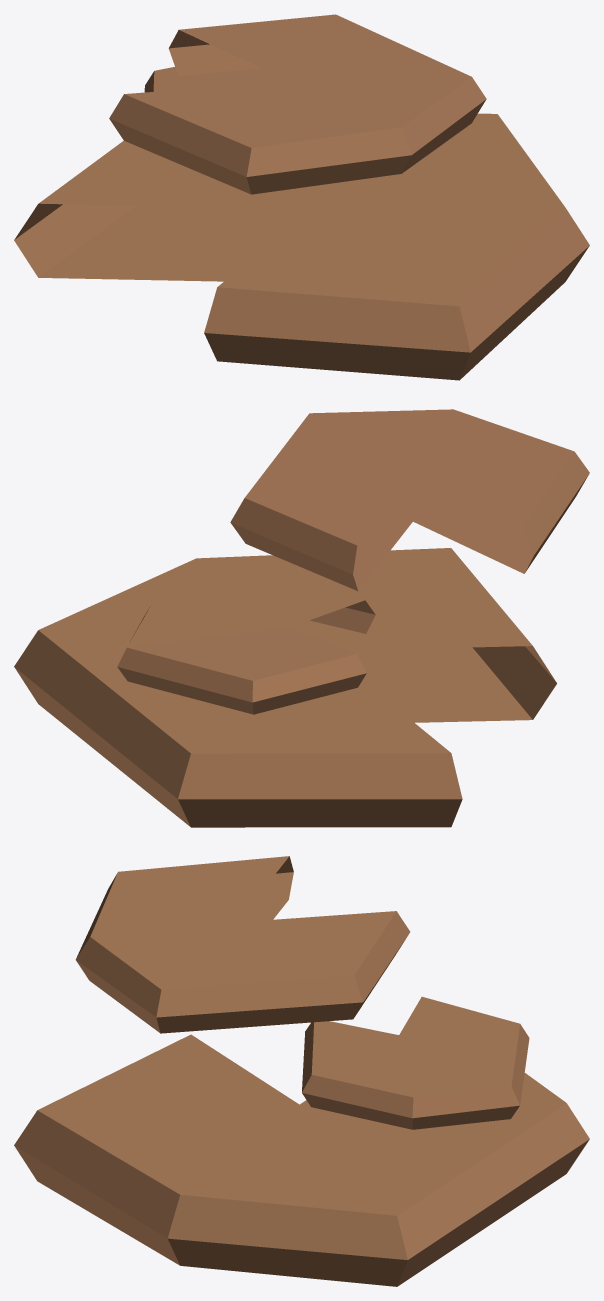
File: TreeMushroom4.fbx
The picture shows the model from 3 angles, top to bottom: view 1: azimuth 30°, elevation 25°; view 2: azimuth 150°, elevation 25°; view 3: azimuth 270°, elevation 25°; orthographic projection. The views are drawn at different scales.
Parts seen in each view (by area): view 1: Tree_Mushroom_Trio; view 2: Tree_Mushroom_Trio; view 3: Tree_Mushroom_Trio.
Boxes of the visible parts, <box> form: Tree_Mushroom_Trio: <box>14,14,589,380</box>; Tree_Mushroom_Trio: <box>14,409,589,827</box>; Tree_Mushroom_Trio: <box>14,856,589,1286</box>.
Size of the model in its own units: 1.77 by 0.8659 by 1.95.
